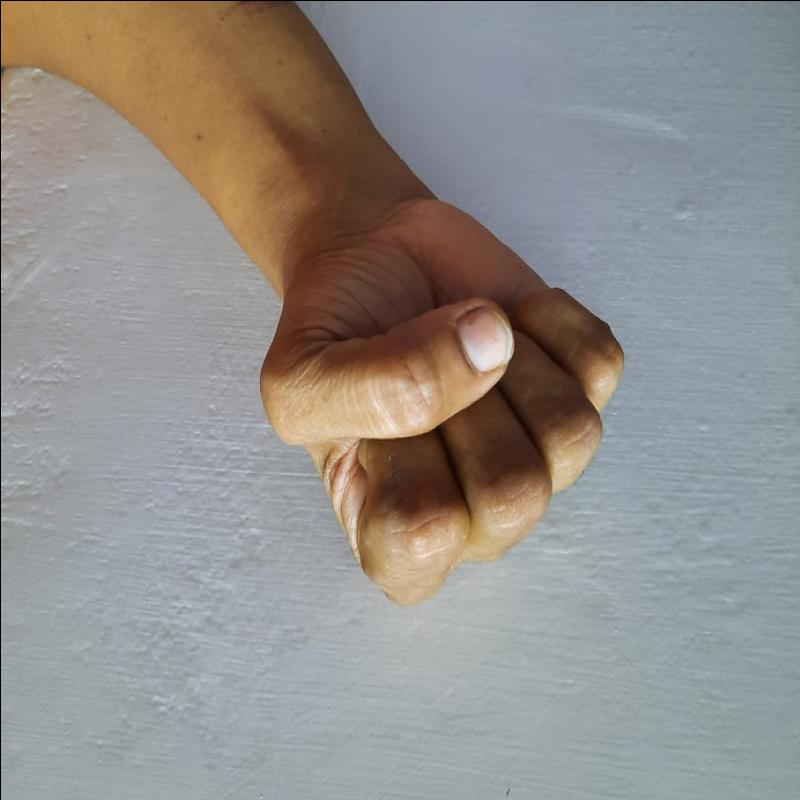Mushti: (218, 183, 652, 623)
